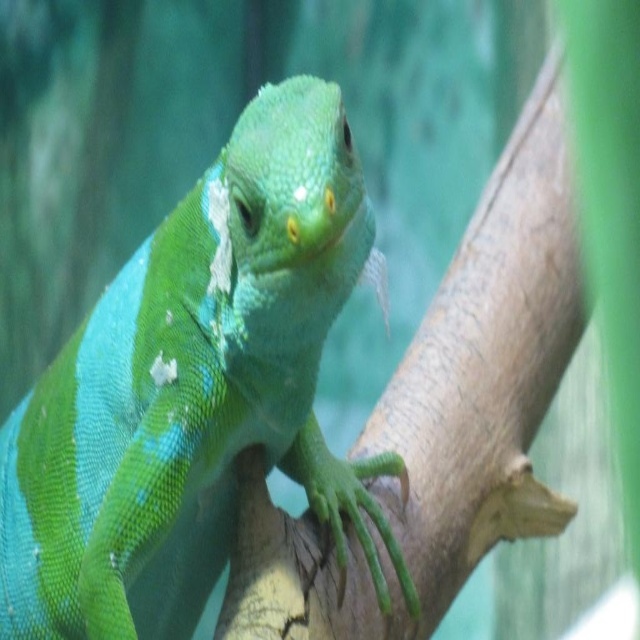Lizard: (0, 73, 420, 640)
